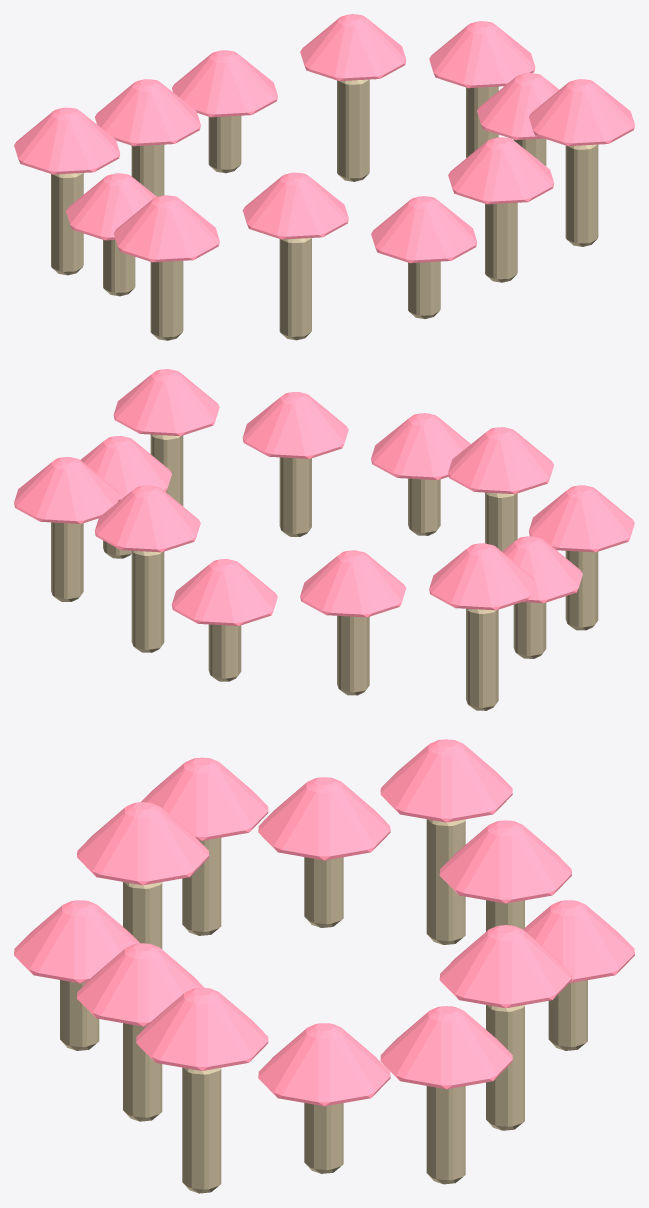
File: old_wood_mushroom_ring.glb
3 renders of one model, top to bottom at view 1: azimuth 30°, elevation 25°; view 2: azimuth 150°, elevation 25°; view 3: azimuth 270°, elevation 25°, orthographic. The views are drawn at different scales.
Bounding box in the file's own units: 1.78 × 0.535 × 1.54.
